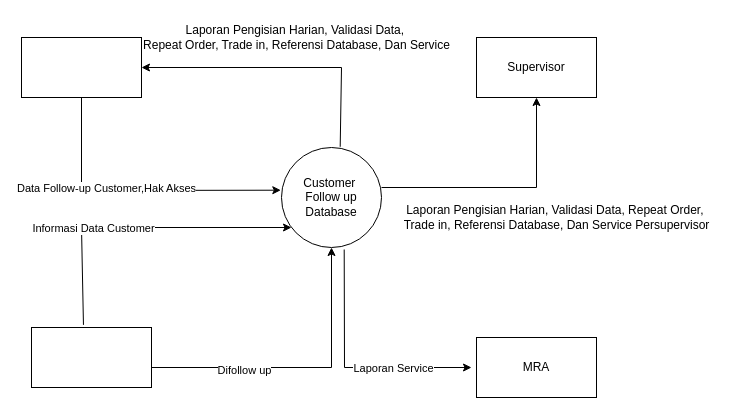
This 739x415 diagram has some shape labels left out. The shapes that lost their labels are listed below. From the top down, each one's centre as x and y in pixels, then its label:
At [81,67]: "Admin".
At [91,357]: "Sales".
